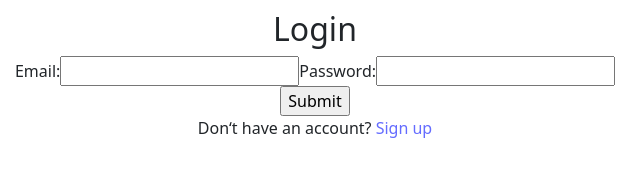
Test: Login Page › displays an error message on unsuccessful login
Type "test@email.com" into the field labelled "Email:". click: coordinates (180, 71)
box: 60,56 -> 299,86
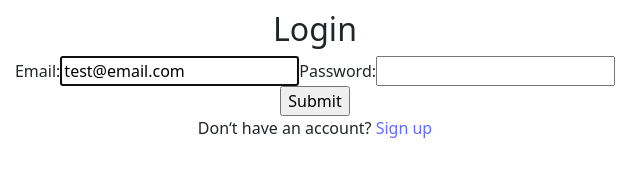
Type "Password1!" into the password field labelled "Password:". click: coordinates (496, 71)
box: 376,56 -> 615,86
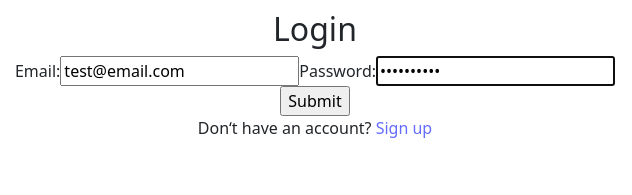
Click the button. click: coordinates (315, 101)
box: 280,86 -> 350,116
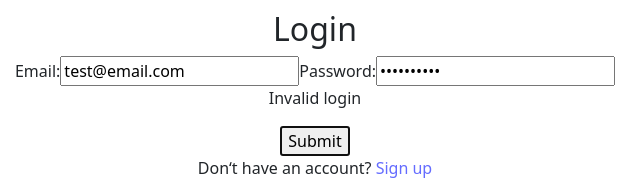
Result: the text "Invalid login" is shown at 269,87 -> 361,109
